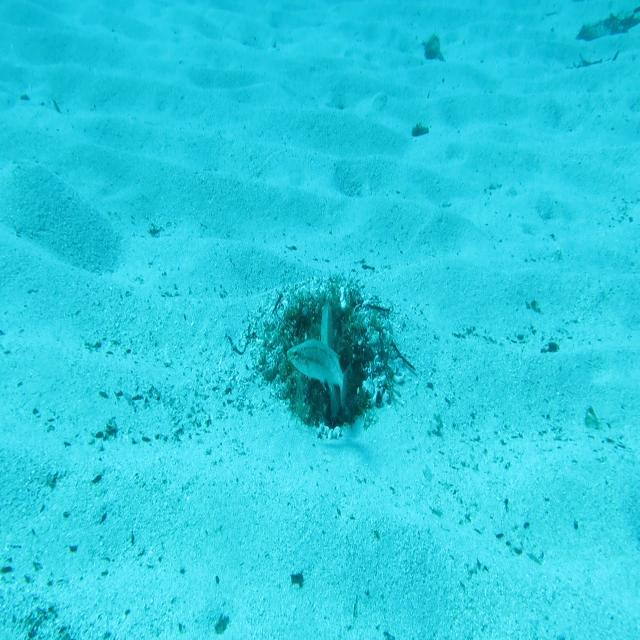FAN: (319, 297, 342, 418)
core_nest: (306, 310, 352, 336)
female: (286, 337, 354, 411)
nest: (250, 264, 407, 443)
vegetation: (572, 4, 640, 46), (420, 36, 448, 61), (408, 117, 432, 137)
